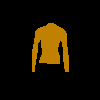maglia: (31, 22, 68, 72)
